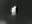person: (10, 6, 19, 18)
